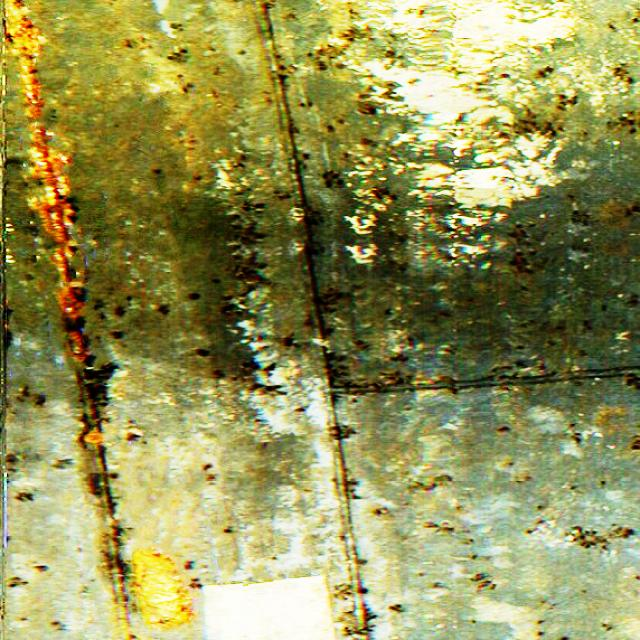Corrosion: (32, 125, 73, 244), (6, 4, 44, 116), (136, 549, 190, 625), (50, 249, 87, 358), (85, 431, 103, 443)
